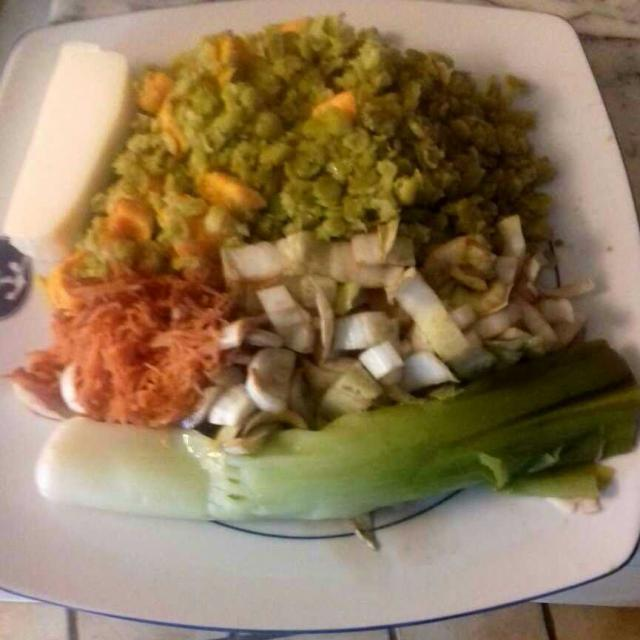carrot: (26, 254, 258, 415)
leek: (32, 339, 634, 517)
witloof-chicory: (211, 213, 605, 421)
